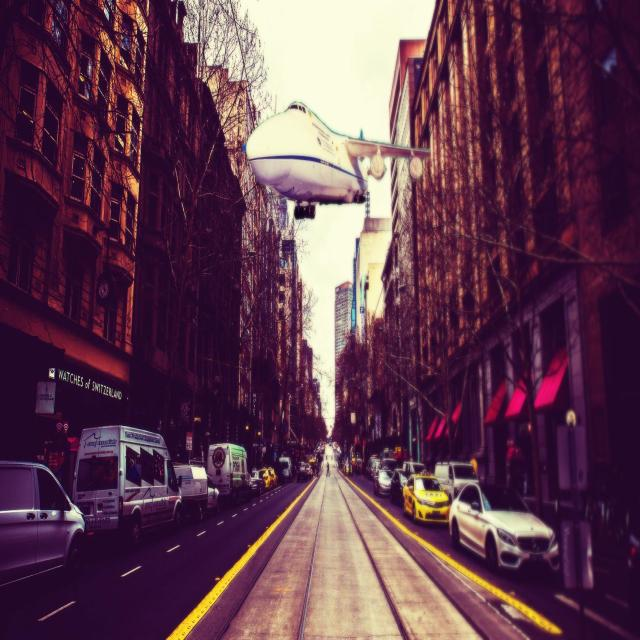airplane: (244, 100, 431, 219)
